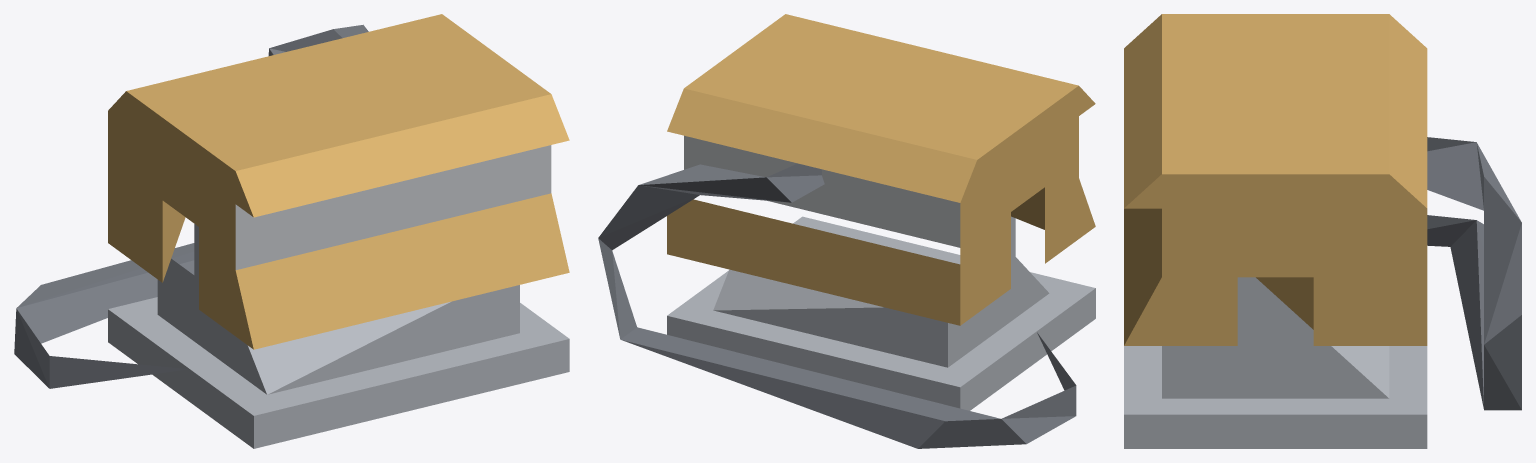
The model's file is machine_generator.lod.glb.
The picture shows the model from 3 angles, left to right: view 1: azimuth 30°, elevation 25°; view 2: azimuth 150°, elevation 25°; view 3: azimuth 270°, elevation 25°; orthographic projection. The views are drawn at different scales.
Parts seen in each view (by area): view 1: machine_generator, cable; view 2: machine_generator, cable; view 3: machine_generator, cable.
Part boxes in pixels (left/top/right/bottom): machine_generator: left=108, top=14, right=569, bottom=448; cable: left=14, top=24, right=368, bottom=388; machine_generator: left=667, top=14, right=1095, bottom=410; cable: left=598, top=163, right=1076, bottom=448; machine_generator: left=1124, top=14, right=1427, bottom=448; cable: left=1427, top=137, right=1521, bottom=410.
Bounding box in the file's own units: 0.6951 × 0.4 × 0.525.
